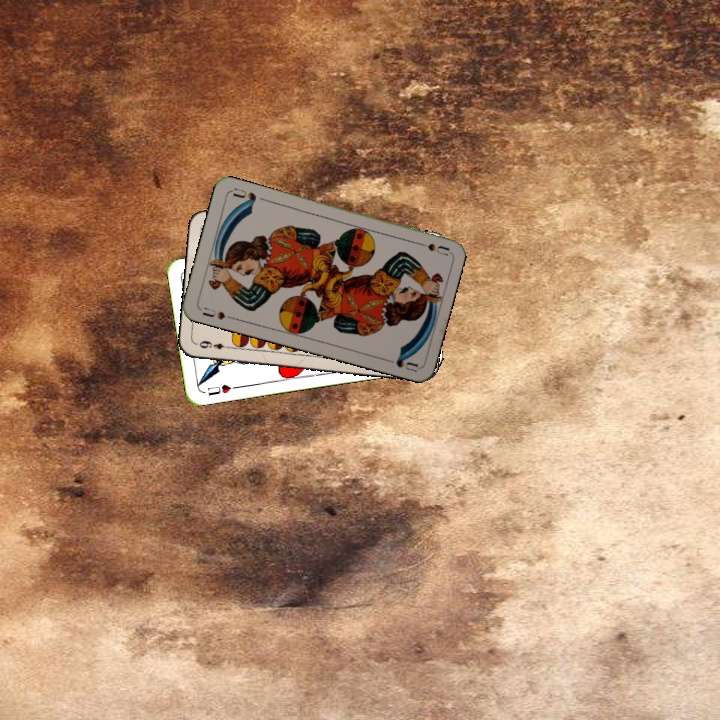E9: (193, 336, 234, 352)
HU: (203, 380, 240, 398)
SU: (410, 237, 451, 258), (198, 303, 236, 322)
